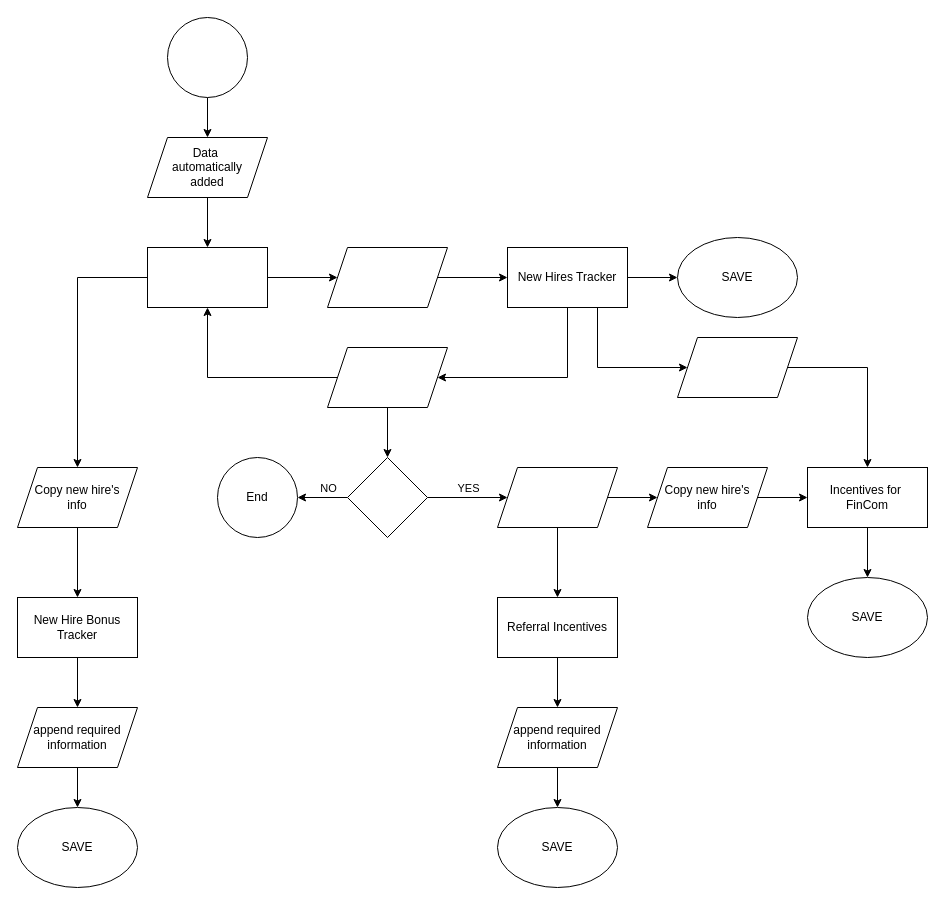
Image size: 945x905. Some labels were removed from this diagram. Here are the shapes that lost their labels. From the top down, the centre of each, then its label:
At (x=207, y=57): "Data".
At (x=207, y=277): "2025 Referral Responses and Form Responses 5".
At (x=387, y=277): "Copy new hire's information".
At (x=387, y=377): "Verify referrer info using new hire's email".
At (x=737, y=367): "Add new hire's information for new hire bonus".
At (x=387, y=497): "Referrer verified?".
At (x=557, y=497): "Copy referrer's info".
